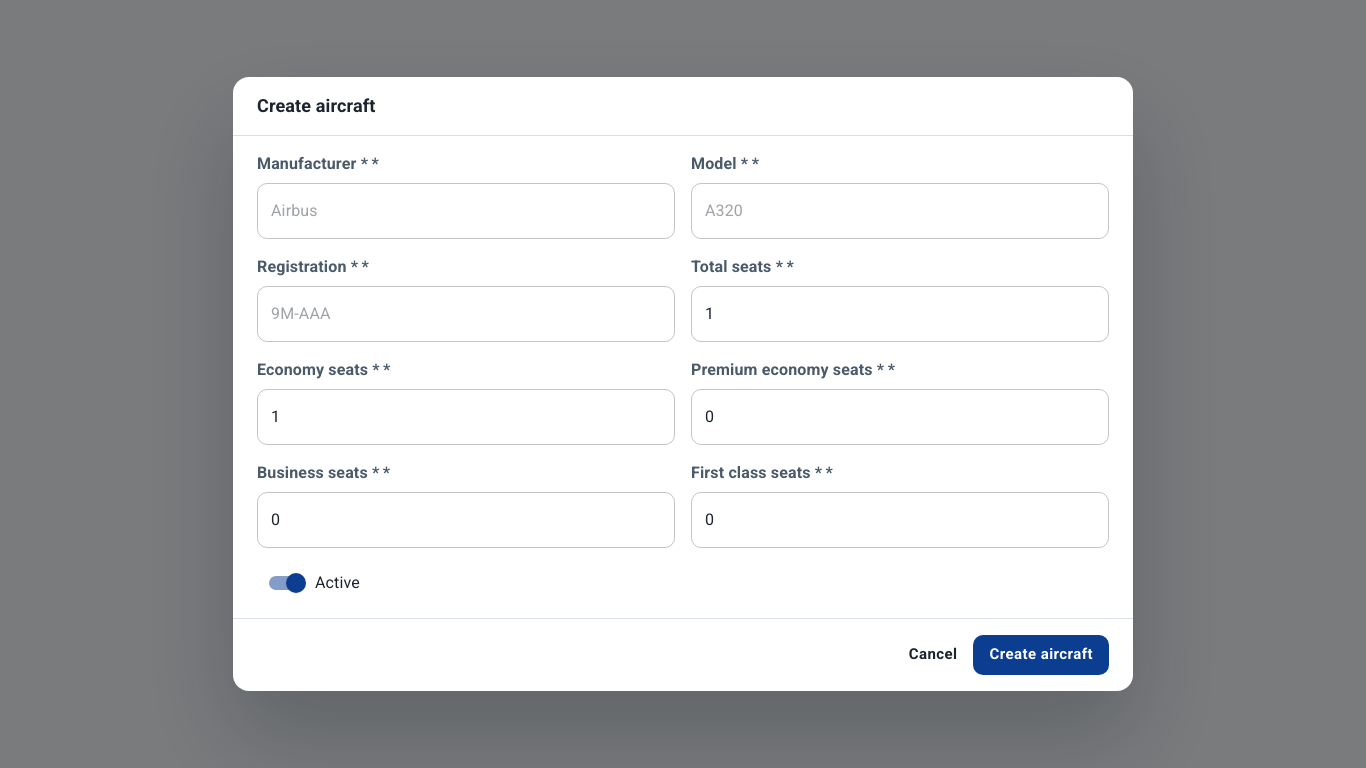
it: AircraftDialog › does not submit when required create fields are empty
Click the button "Create aircraft" at coordinates (1041, 655), box [974,635,1109,675]
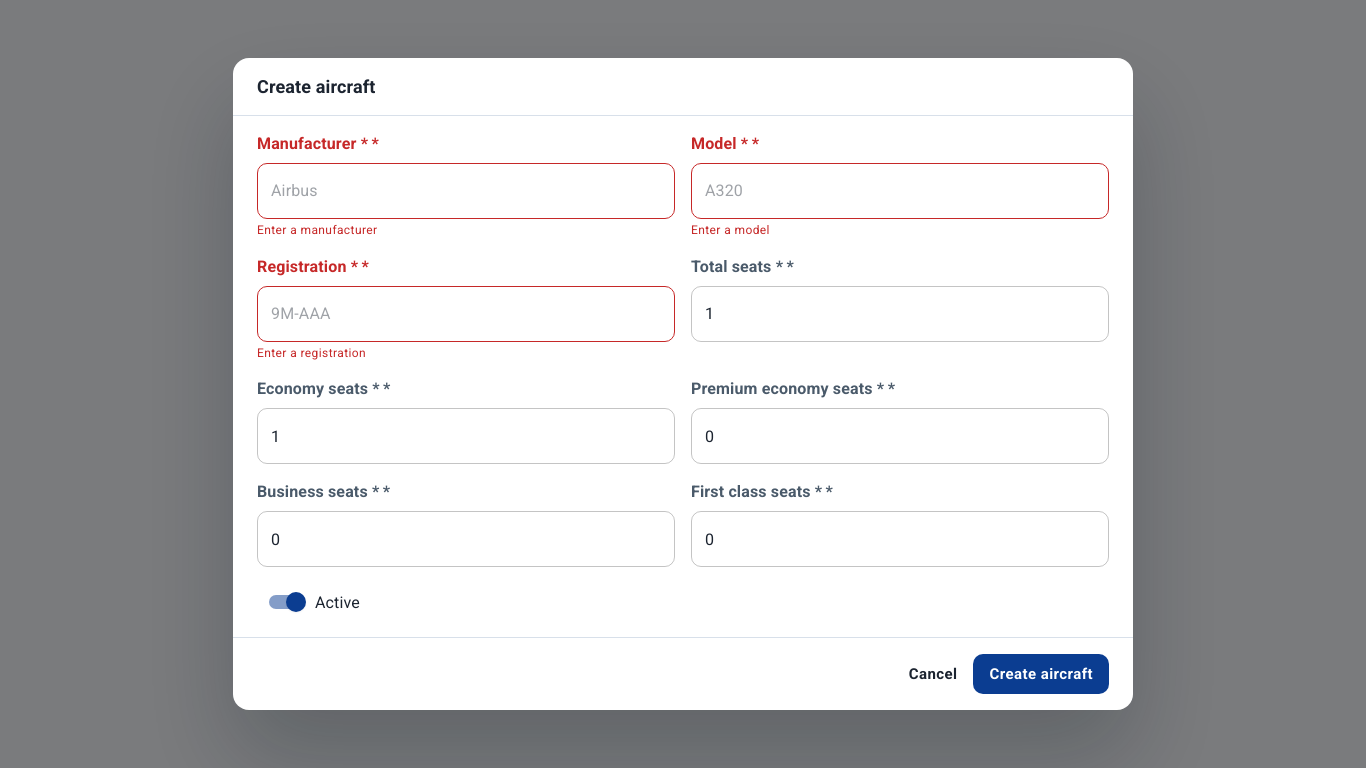
Expected: the text "Enter a manufacturer" is shown, [257,223,378,237]
